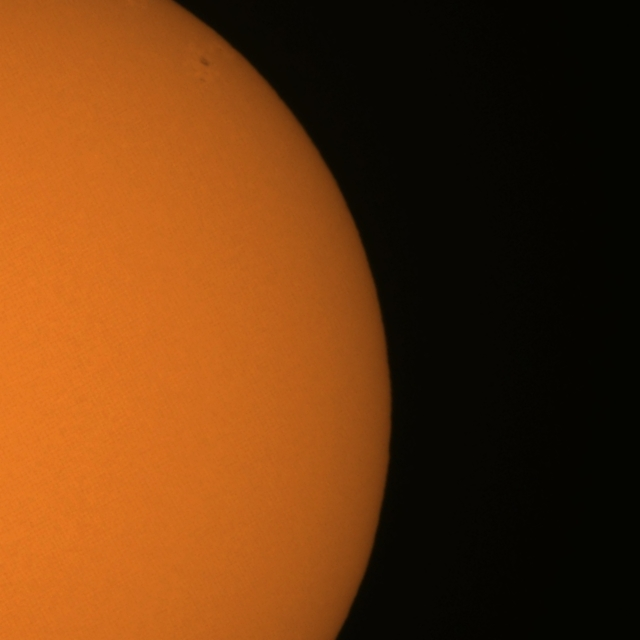sunspot: (198, 55, 212, 69)
